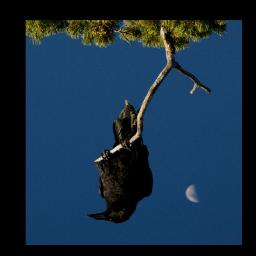Crow: (85, 96, 154, 224)
